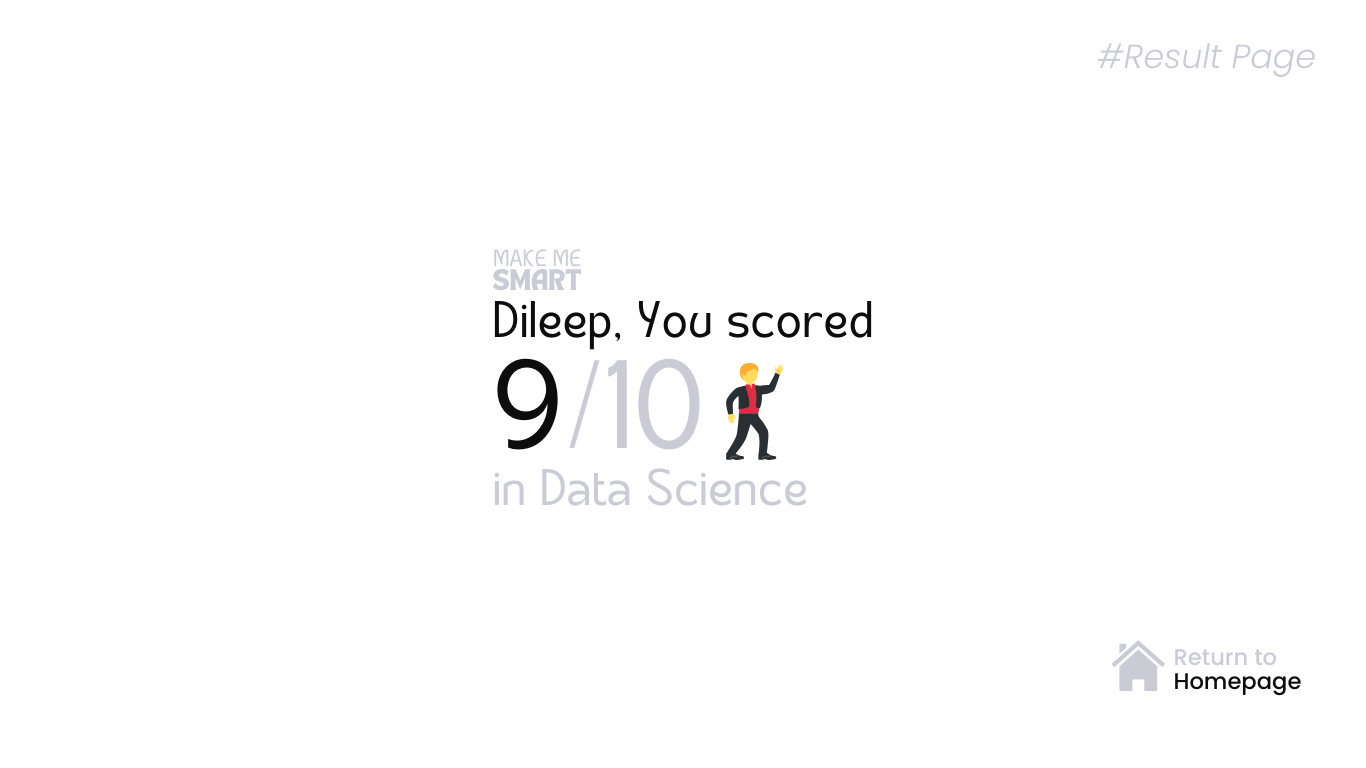

What the dashboard file says about the page in this screenshot:
{"tool":"tableau","page":{"name":"Dashboard 1","canvas":[1000,1000],"units":"permille","ordinal":0},"visuals":[{"type":"text","box":[4.7,8.9,990.6,175.2]},{"type":"worksheet","title":"Sheet 1","mark":"Automatic","rows":["score"],"cols":["topic"],"box":[4.7,184.2,990.6,806.9]}]}

Visuals, with their boxes on the dashboard's canvas, which has no fixed pixel size, in thousandths of its width and height (x1, y1, x2, y2). These are canvas units, not pixel positions in the 1366x768 screenshot, which may show the page scaled, cropped or inside an application window:
text: locate(5, 9, 995, 184)
"Sheet 1" worksheet: locate(5, 184, 995, 991)
